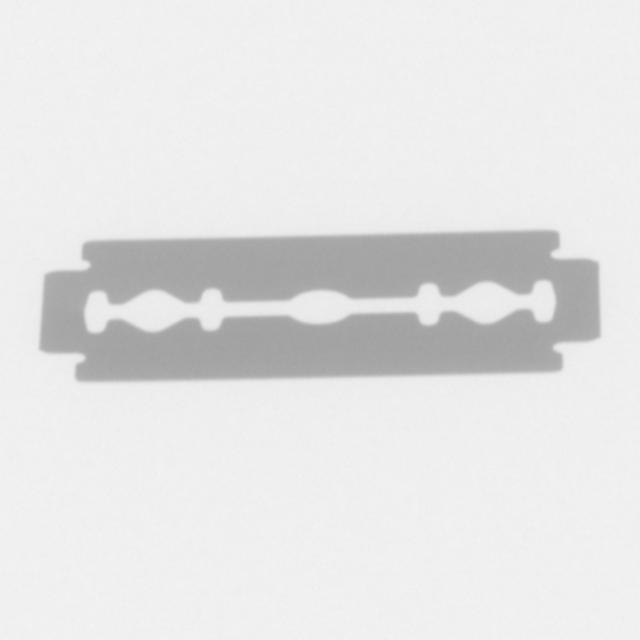razor: (33, 226, 606, 385)
